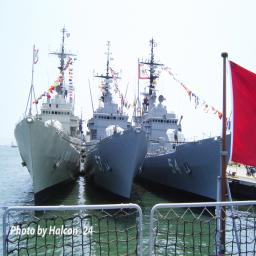Fragata: (134, 30, 239, 207), (11, 2, 82, 205), (75, 21, 150, 203)
